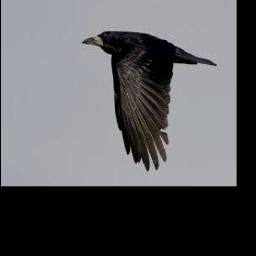Crow: (81, 31, 216, 170)
